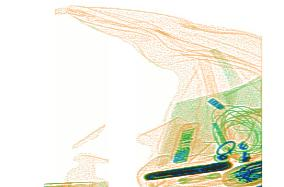USBFlashDisk: (172, 125, 195, 163)
